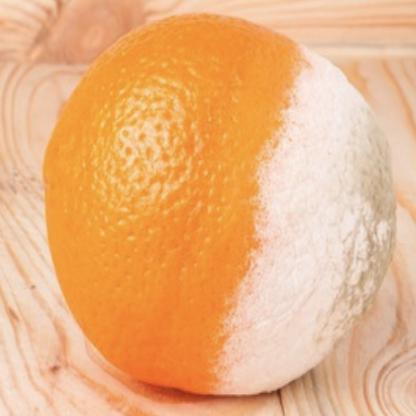rotten: (47, 12, 395, 394)
